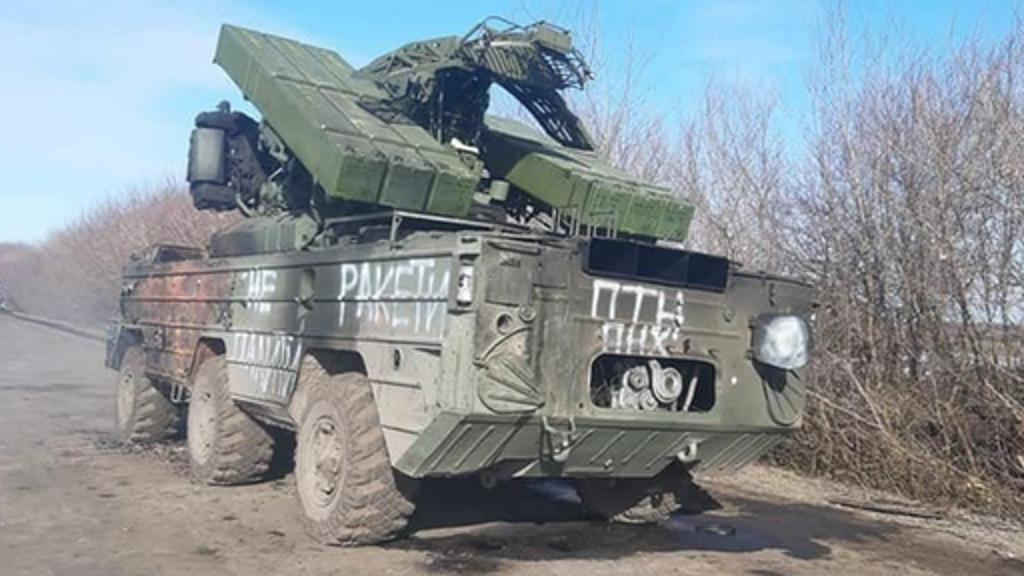MLRS: (98, 20, 818, 554)
